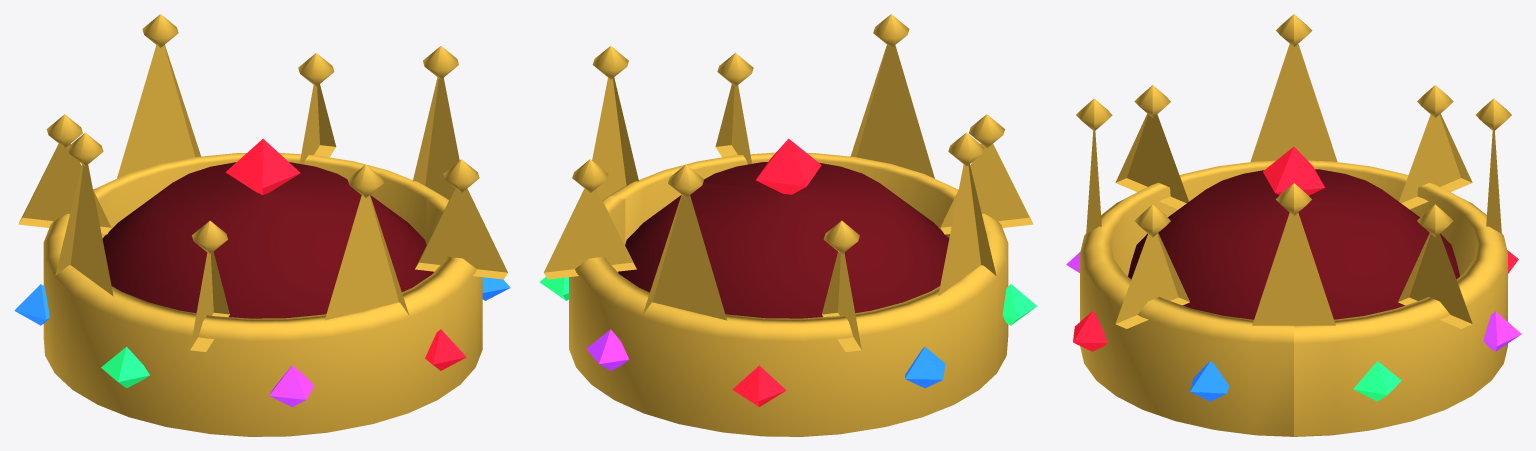
Rendered from hoard_crown.glb.
The picture shows the model from 3 angles, left to right: view 1: azimuth 30°, elevation 25°; view 2: azimuth 150°, elevation 25°; view 3: azimuth 270°, elevation 25°; orthographic projection. The views are drawn at different scales.
Bounding box in the file's own units: 2.22 × 1.39 × 2.24.
6 materials, 6 textured.
